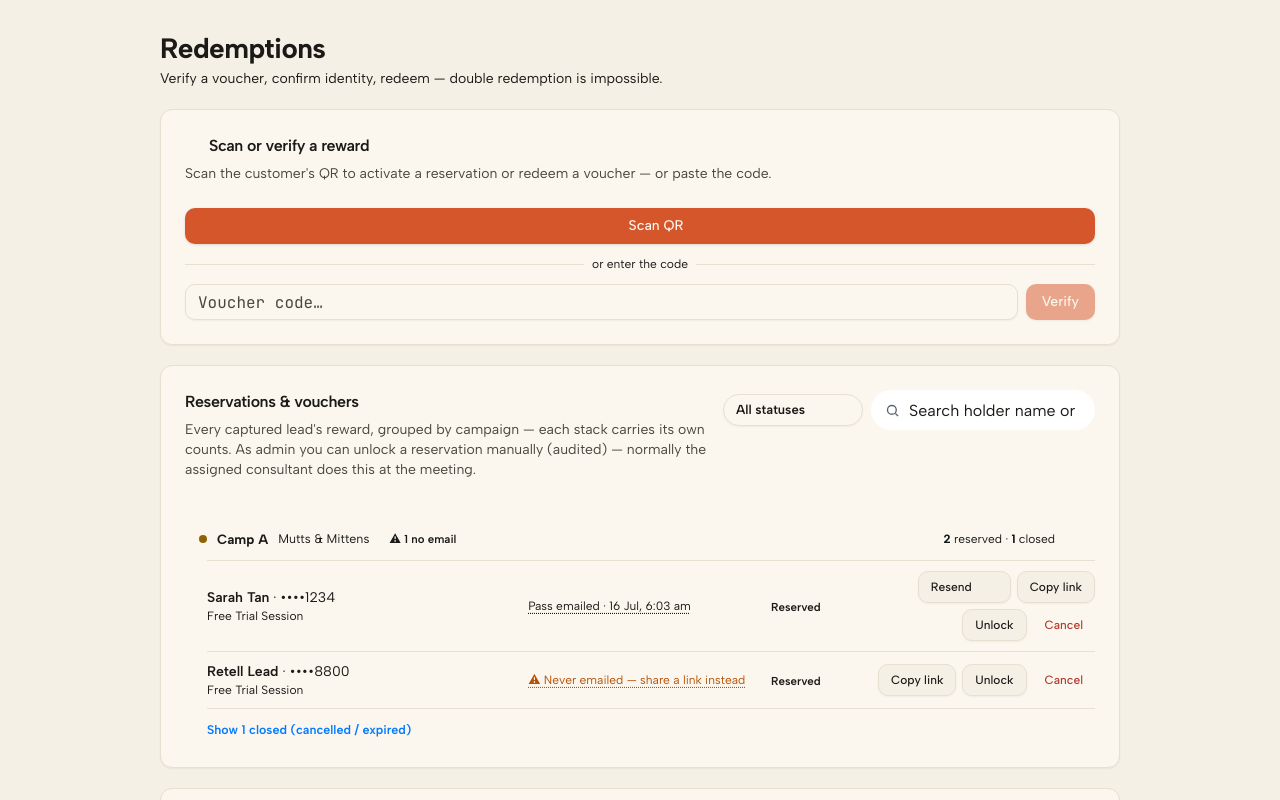
RedemptionsPage campaign stacks + delivery truth › a closed-status filter shows the matching rows without an extra click
Expected: the text "Sarah Tan" is shown, [207,589,269,606]
Click the dropdown named "Filter by status" at (793, 410), box [723,394,863,426]
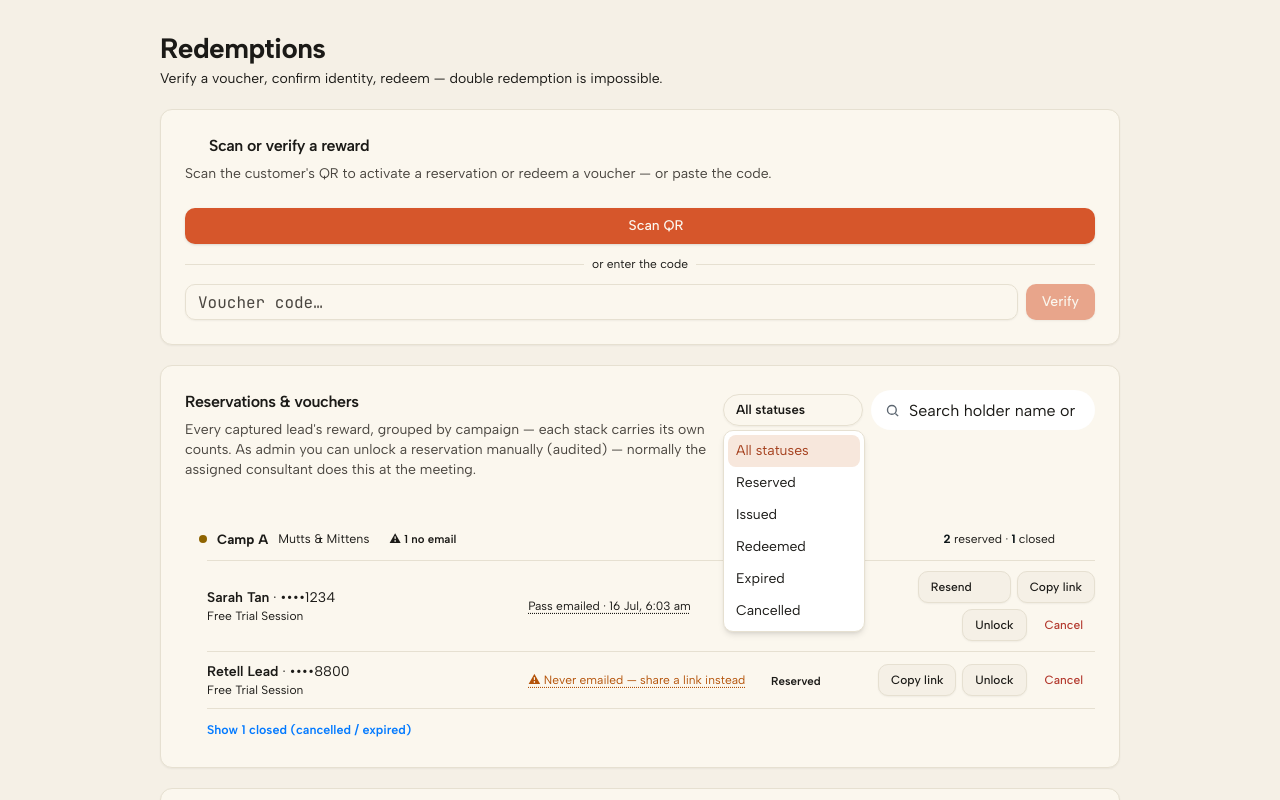
Click the option "Cancelled" at (768, 610), box [736,602,800,619]
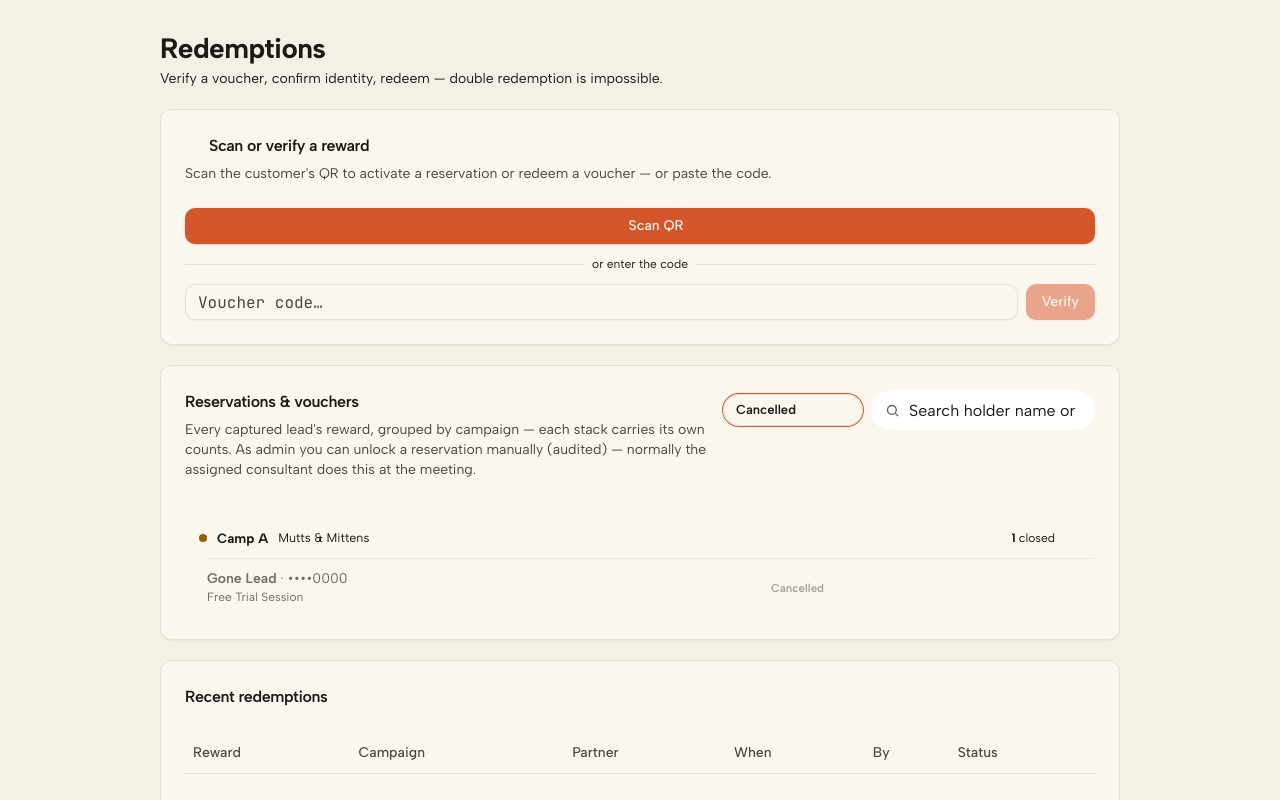
Expected: the text "Gone Lead" is shown, [207,570,277,587]
Expected: the button "Show 1 closed" is gone
